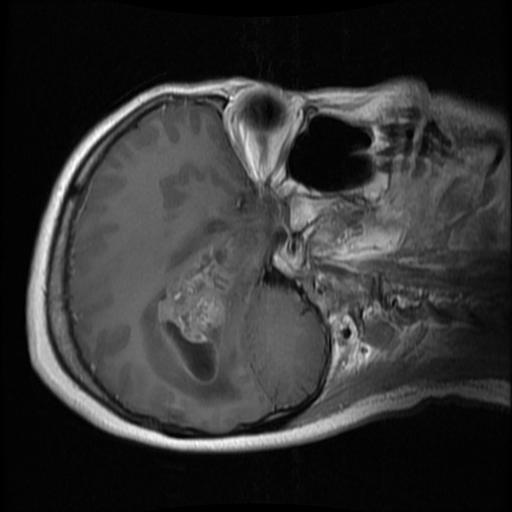glioma: (141, 221, 250, 405)
